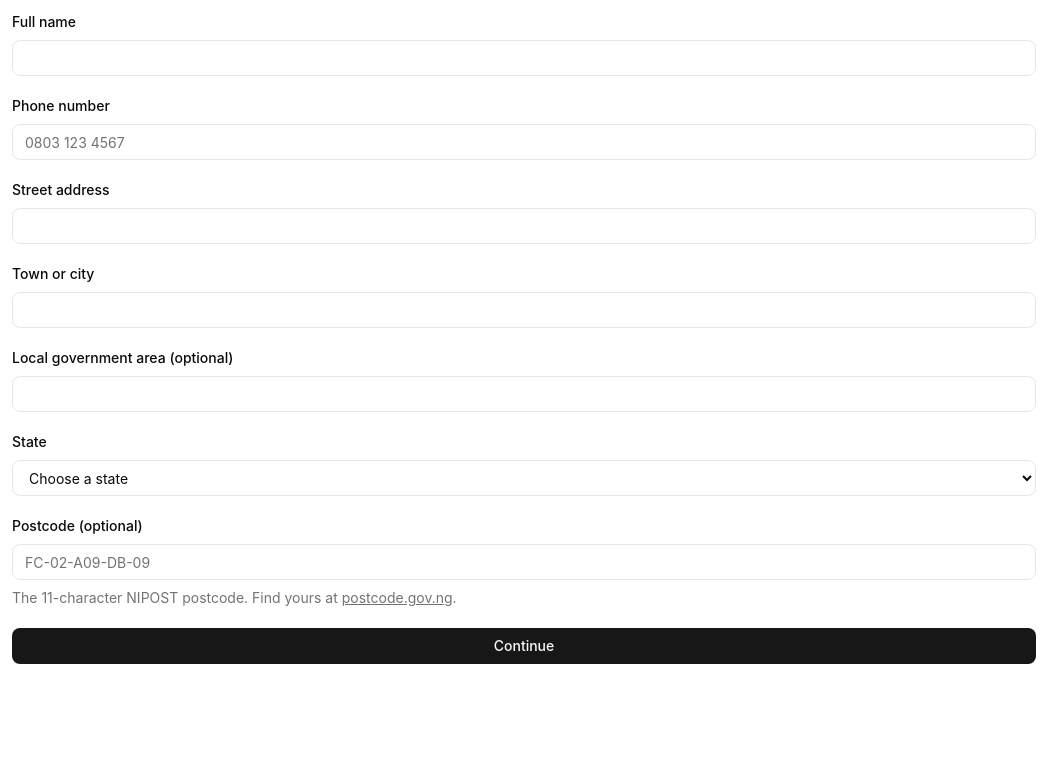
Test case: tidies the postcode when the customer leaves the field
The width and height of the screenshot is (1048, 780).
Type "fc02a09db09" into the field labelled "Postcode (optional)" at [524, 562], box [12, 544, 1036, 580]
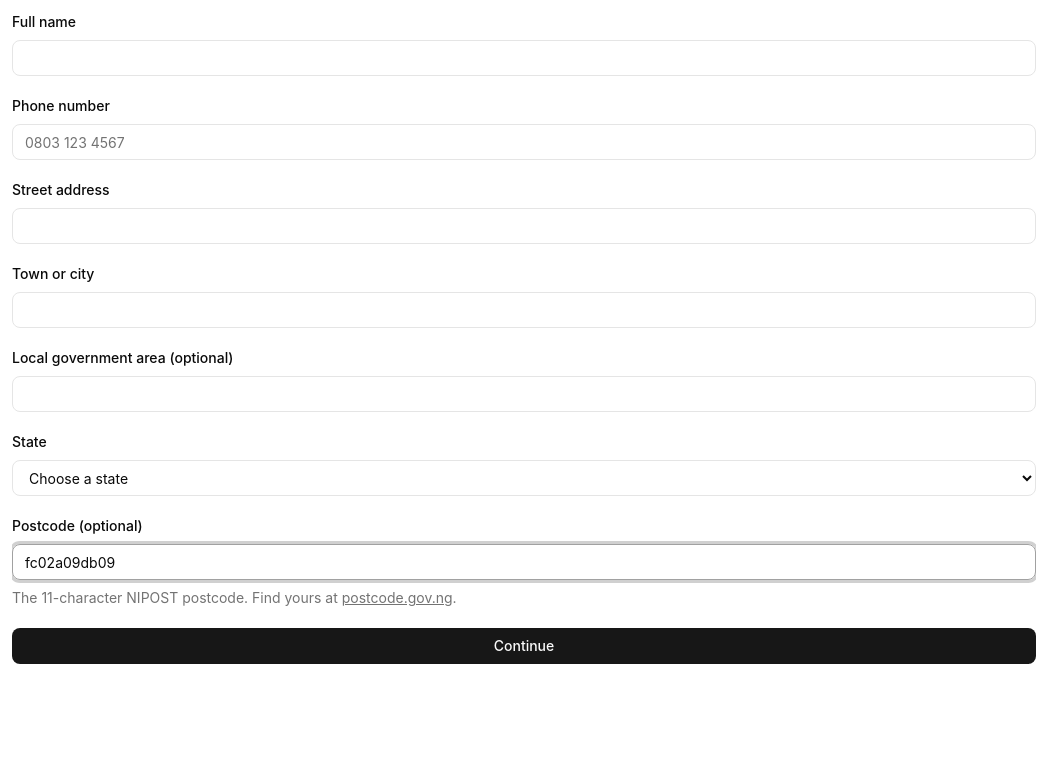
Press Tab
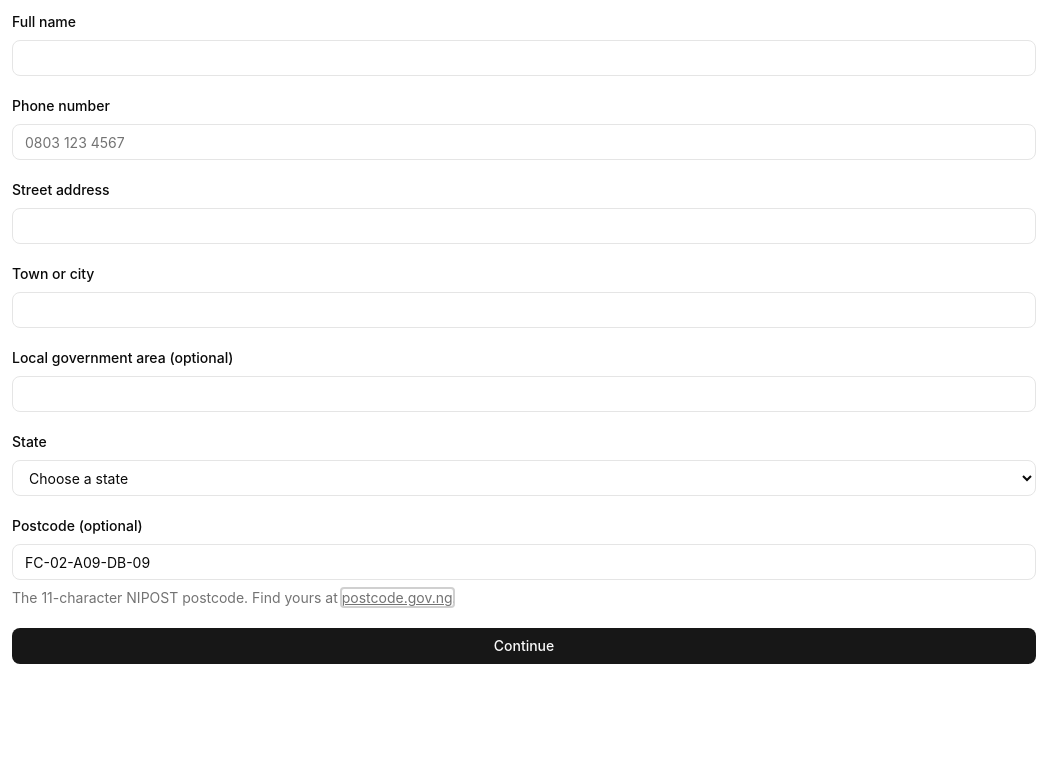
Result: the field labelled "Postcode (optional)" holds "FC-02-A09-DB-09" at [12, 544, 1036, 580]
